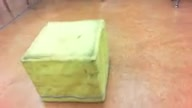cube: (21, 19, 109, 102)
